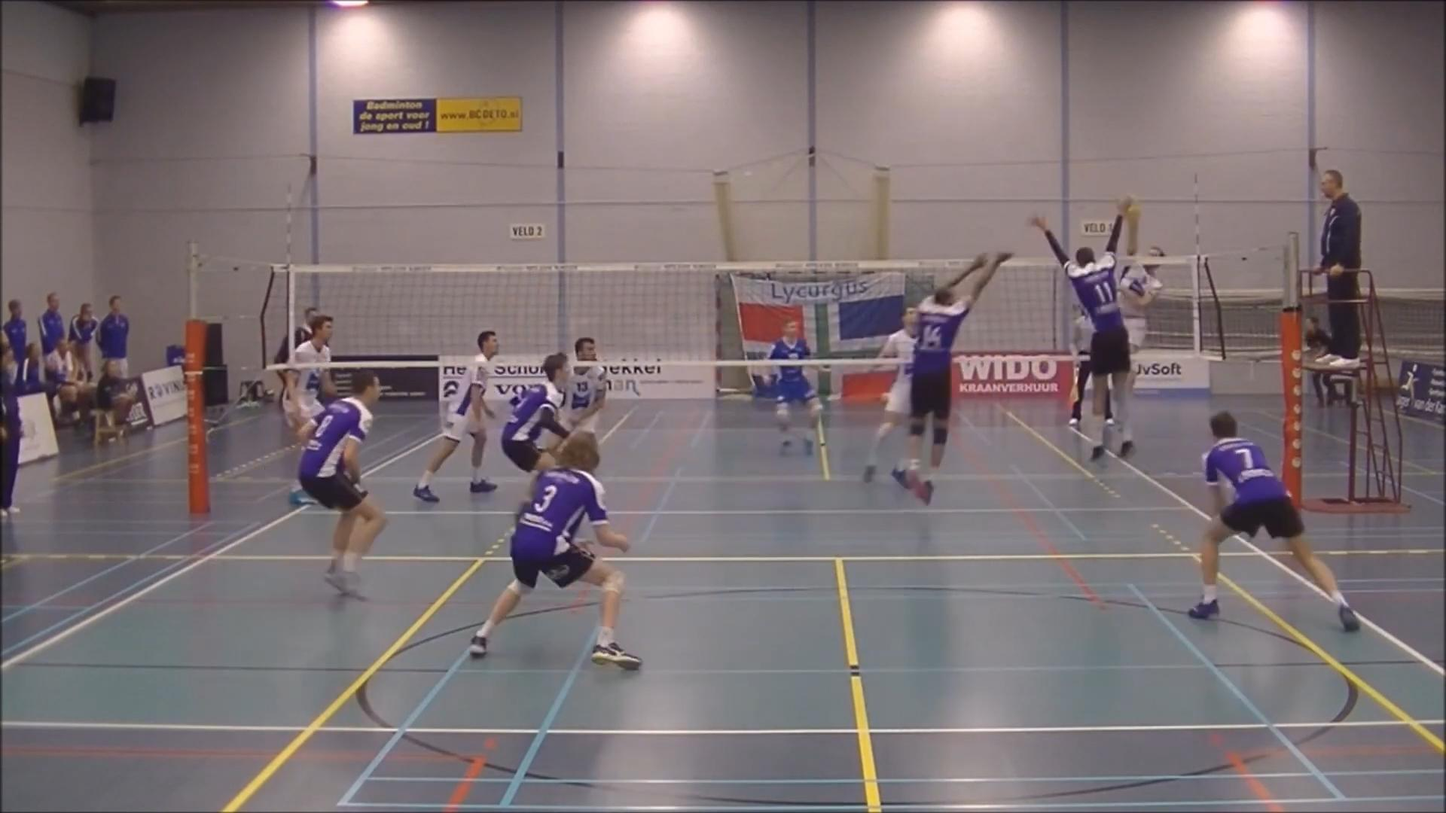attacco: (1112, 188, 1173, 399)
muro: (883, 243, 1016, 505), (1027, 207, 1153, 462)
